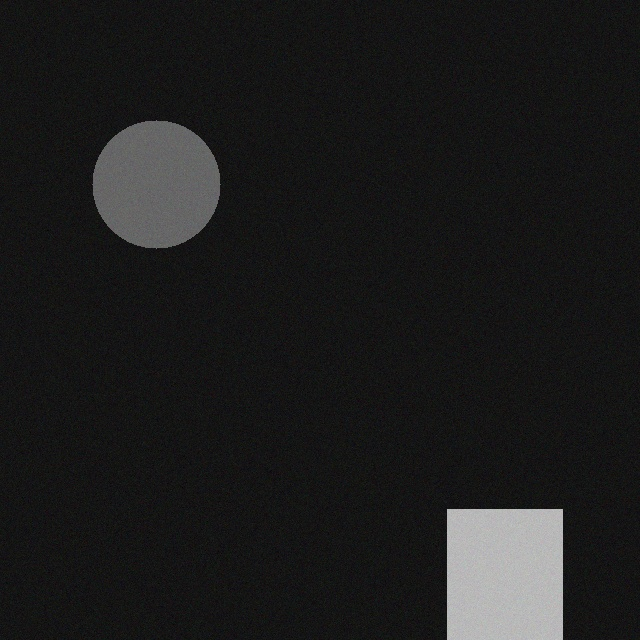circle: (104, 135, 232, 263)
square: (459, 524, 574, 639)
